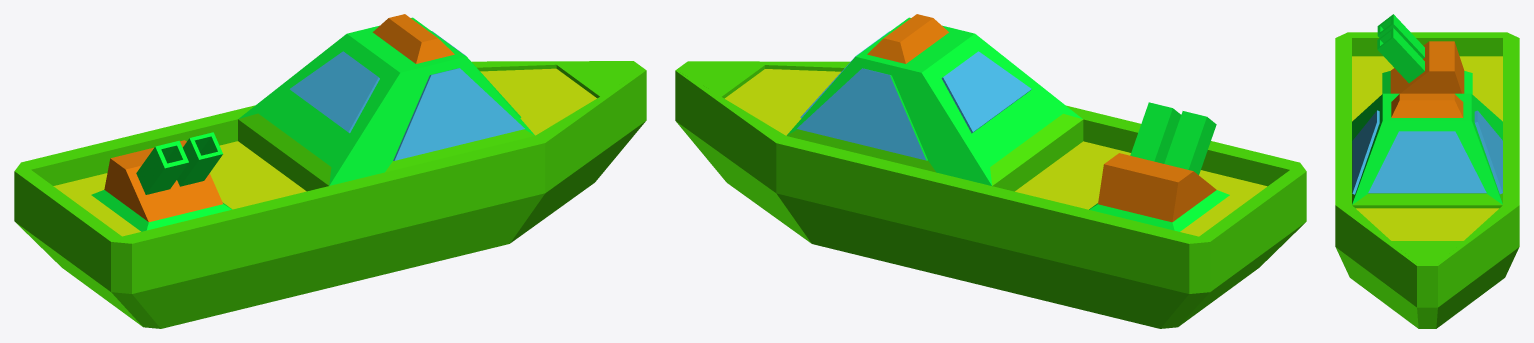
Rendered from boatV3.fbx.
3 views of the same model, side by side, from view 1: azimuth 30°, elevation 25°; view 2: azimuth 150°, elevation 25°; view 3: azimuth 270°, elevation 25° (orthographic). The views are drawn at different scales.
Parts seen in each view (by area): view 1: Cube; view 2: Cube; view 3: Cube.
Boxes of the visible parts, <box> form: Cube: <box>14,14,646,328</box>; Cube: <box>675,14,1306,328</box>; Cube: <box>1335,14,1519,328</box>.
Bounding box in the file's own units: 300 × 96.17 × 100.
